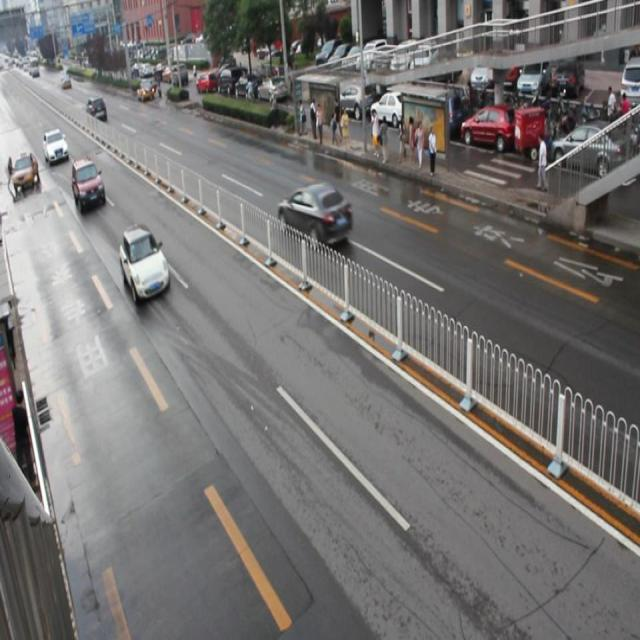car: (278, 180, 352, 244), (118, 224, 172, 306), (71, 155, 104, 212)
